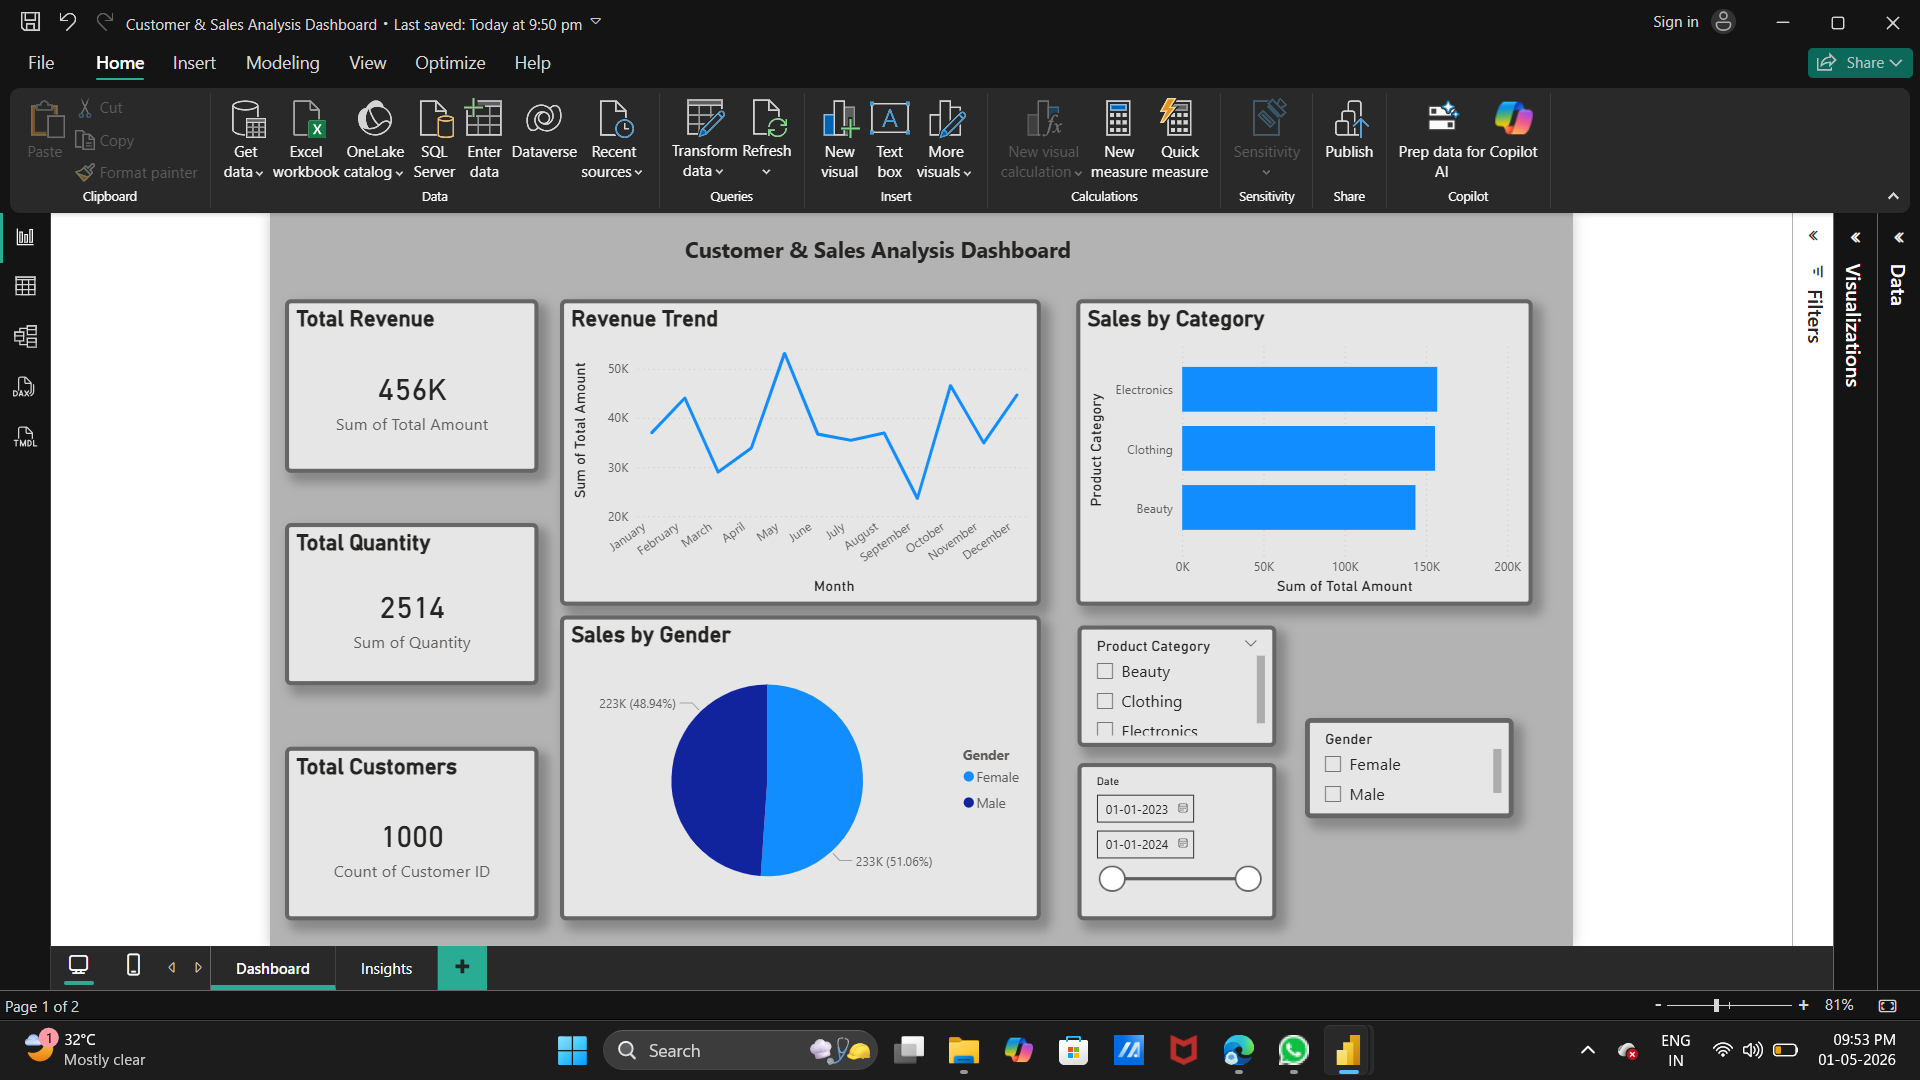

What the dashboard file says about the page in this screenshot:
{"tool":"powerbi","page":{"name":"Dashboard","canvas":[1280,720],"ordinal":0},"visuals":[{"type":"card","title":"Total Revenue","fields":{"Values":["Sum(retail_sales_dataset.Total Amount)"]},"box":[14.7,84.7,249.1,170.6],"z":0},{"type":"card","title":"Total Quantity","fields":{"Values":["Sum(retail_sales_dataset.Quantity)"]},"box":[14.7,304.3,249.1,159.5],"z":1000},{"type":"card","title":"Total Customers","fields":{"Values":["Count(retail_sales_dataset.Customer ID)"]},"box":[14.7,523.9,249.1,170.6],"z":2000},{"type":"lineChart","title":"Revenue Trend","fields":{"Category":["retail_sales_dataset.Date.Variation.Date Hierarchy.Month"],"Y":["Sum(retail_sales_dataset.Total Amount)"]},"box":[284.7,84.7,472.4,300.6],"z":3000},{"type":"clusteredBarChart","title":"Sales by Category","fields":{"Category":["retail_sales_dataset.Product Category"],"Y":["Sum(retail_sales_dataset.Total Amount)"]},"box":[792.6,84.7,447.9,300.6],"z":4000},{"type":"pieChart","title":"Sales by Gender","fields":{"Category":["retail_sales_dataset.Gender"],"Y":["Sum(retail_sales_dataset.Total Amount)"]},"box":[284.7,395.1,472.4,299.4],"z":5000},{"type":"slicer","title":"Product Category","fields":{"Values":["retail_sales_dataset.Product Category"]},"box":[792.6,404.9,195.1,119],"z":6000},{"type":"slicer","fields":{"Values":["retail_sales_dataset.Gender"]},"box":[1016,495.7,204.9,98.2],"z":7000},{"type":"slicer","fields":{"Values":["retail_sales_dataset.Date"]},"box":[792.6,539.9,195.1,154.6],"z":8000},{"type":"textbox","box":[402.5,16,451.5,54],"z":8001}]}

Visuals, with their boxes on the page's 1280x720 design canvas (x1, y1, x2, y2). These are canvas units, not pixel positions in the 1920x1080 screenshot, which may show the page scaled, cropped or inside an application window:
"Total Revenue" card: pyautogui.locateOnScreen(15, 85, 264, 255)
"Total Quantity" card: pyautogui.locateOnScreen(15, 304, 264, 464)
"Total Customers" card: pyautogui.locateOnScreen(15, 524, 264, 694)
"Revenue Trend" lineChart: pyautogui.locateOnScreen(285, 85, 757, 385)
"Sales by Category" clusteredBarChart: pyautogui.locateOnScreen(793, 85, 1240, 385)
"Sales by Gender" pieChart: pyautogui.locateOnScreen(285, 395, 757, 694)
"Product Category" slicer: pyautogui.locateOnScreen(793, 405, 988, 524)
slicer - retail_sales_dataset.Gender: pyautogui.locateOnScreen(1016, 496, 1221, 594)
slicer - retail_sales_dataset.Date: pyautogui.locateOnScreen(793, 540, 988, 694)
textbox: pyautogui.locateOnScreen(402, 16, 854, 70)
